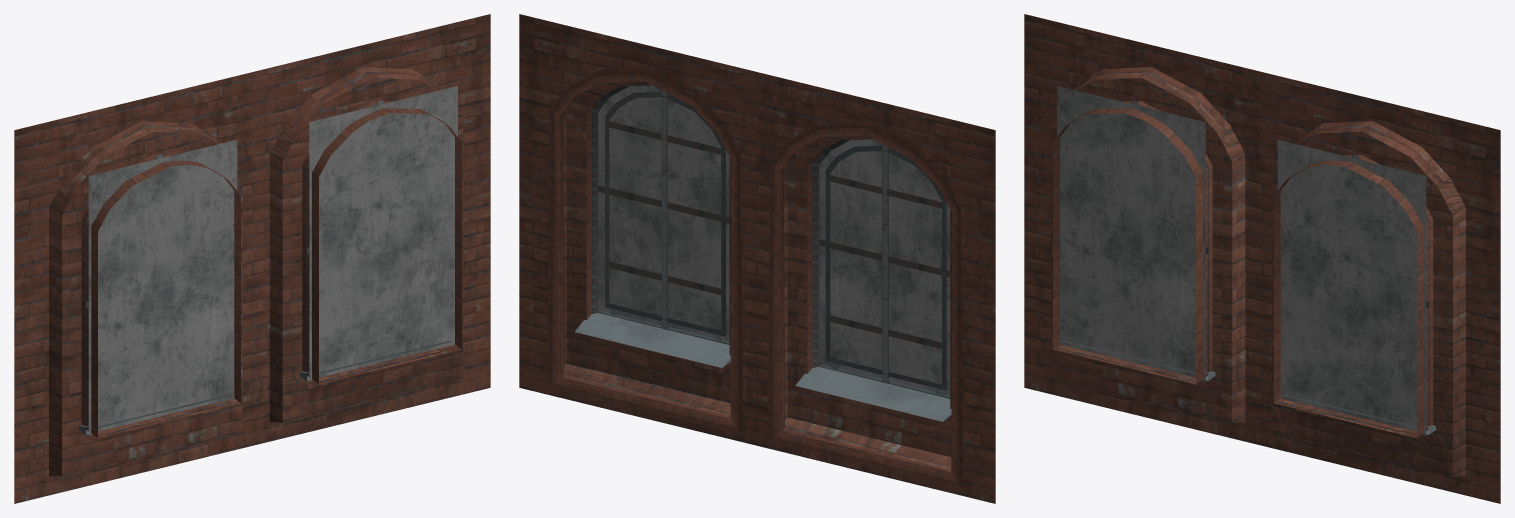
The model's file is ARC0910023.fbx.
3 views of the same model, side by side, from view 1: azimuth 30°, elevation 25°; view 2: azimuth 150°, elevation 25°; view 3: azimuth 330°, elevation 25° (orthographic).
Visible parts, largest first — view 1: smARC0910023; view 2: smARC0910023; view 3: smARC0910023.
Boxes of the visible parts, <box> form: smARC0910023: <box>14,14,490,503</box>; smARC0910023: <box>519,14,995,503</box>; smARC0910023: <box>1024,14,1500,503</box>.
Bounding box in the file's own units: 400 × 300 × 43.09.
Materials: 1 (1 with a texture image).
